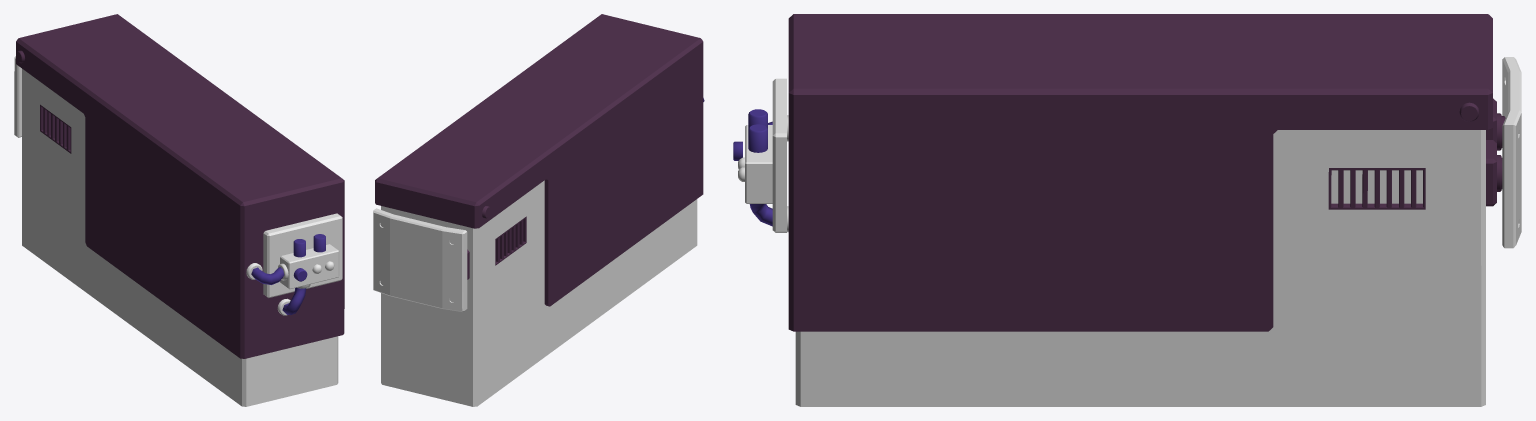
Rendered from ConvPusher.fbx.
3 views of the same model, side by side, from view 1: azimuth 30°, elevation 25°; view 2: azimuth 150°, elevation 25°; view 3: azimuth 270°, elevation 25° (orthographic). The views are drawn at different scales.
Parts seen in each view (by area): view 1: Pusher, partEnd; view 2: Pusher, partEnd; view 3: Pusher, partEnd.
Boxes of the visible parts, <box> form: Pusher: <box>16,14,344,406</box>; partEnd: <box>14,56,21,137</box>; Pusher: <box>375,14,704,406</box>; partEnd: <box>373,208,467,311</box>; Pusher: <box>733,14,1496,406</box>; partEnd: <box>1502,57,1521,248</box>.
Bounding box in the file's own units: 57 × 102 × 228.
